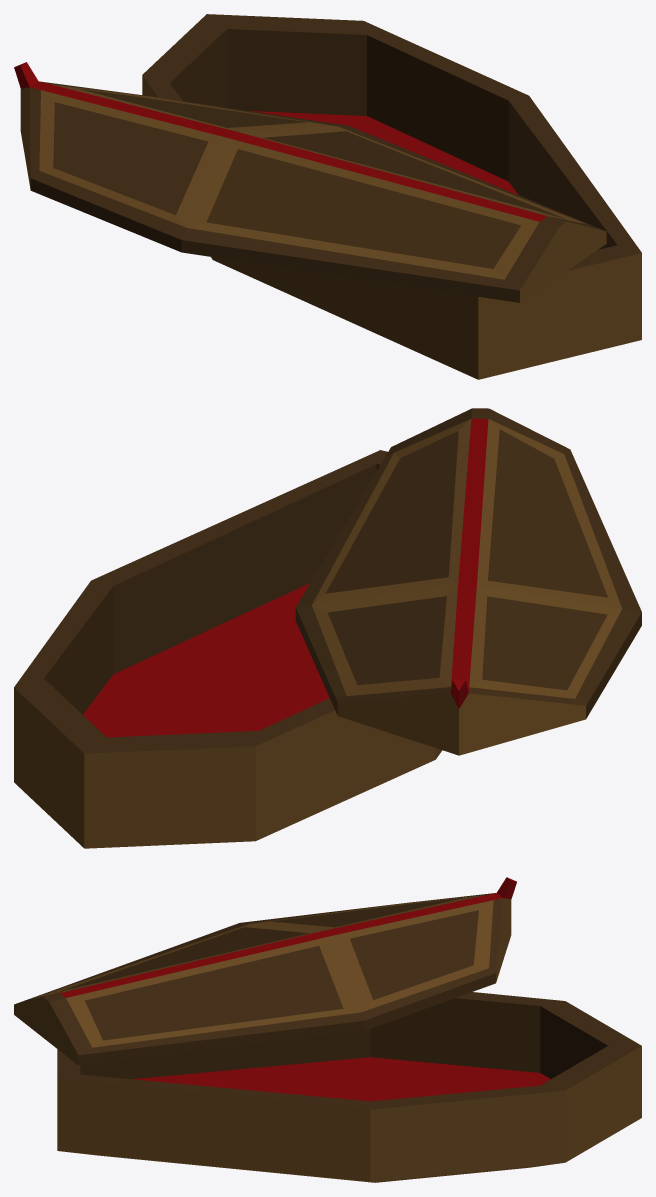
Rendered from coffin.fbx.
The picture shows the model from 3 angles, top to bottom: view 1: azimuth 30°, elevation 25°; view 2: azimuth 150°, elevation 25°; view 3: azimuth 270°, elevation 25°; orthographic projection. The views are drawn at different scales.
Visible parts, largest first — view 1: Cube; view 2: Cube; view 3: Cube.
Part boxes in pixels (x1=…): Cube: x1=14, y1=14, x2=641, y2=379; Cube: x1=14, y1=408, x2=641, y2=848; Cube: x1=14, y1=877, x2=641, y2=1182.
Size of the model in its own units: 537 by 185 by 741.
